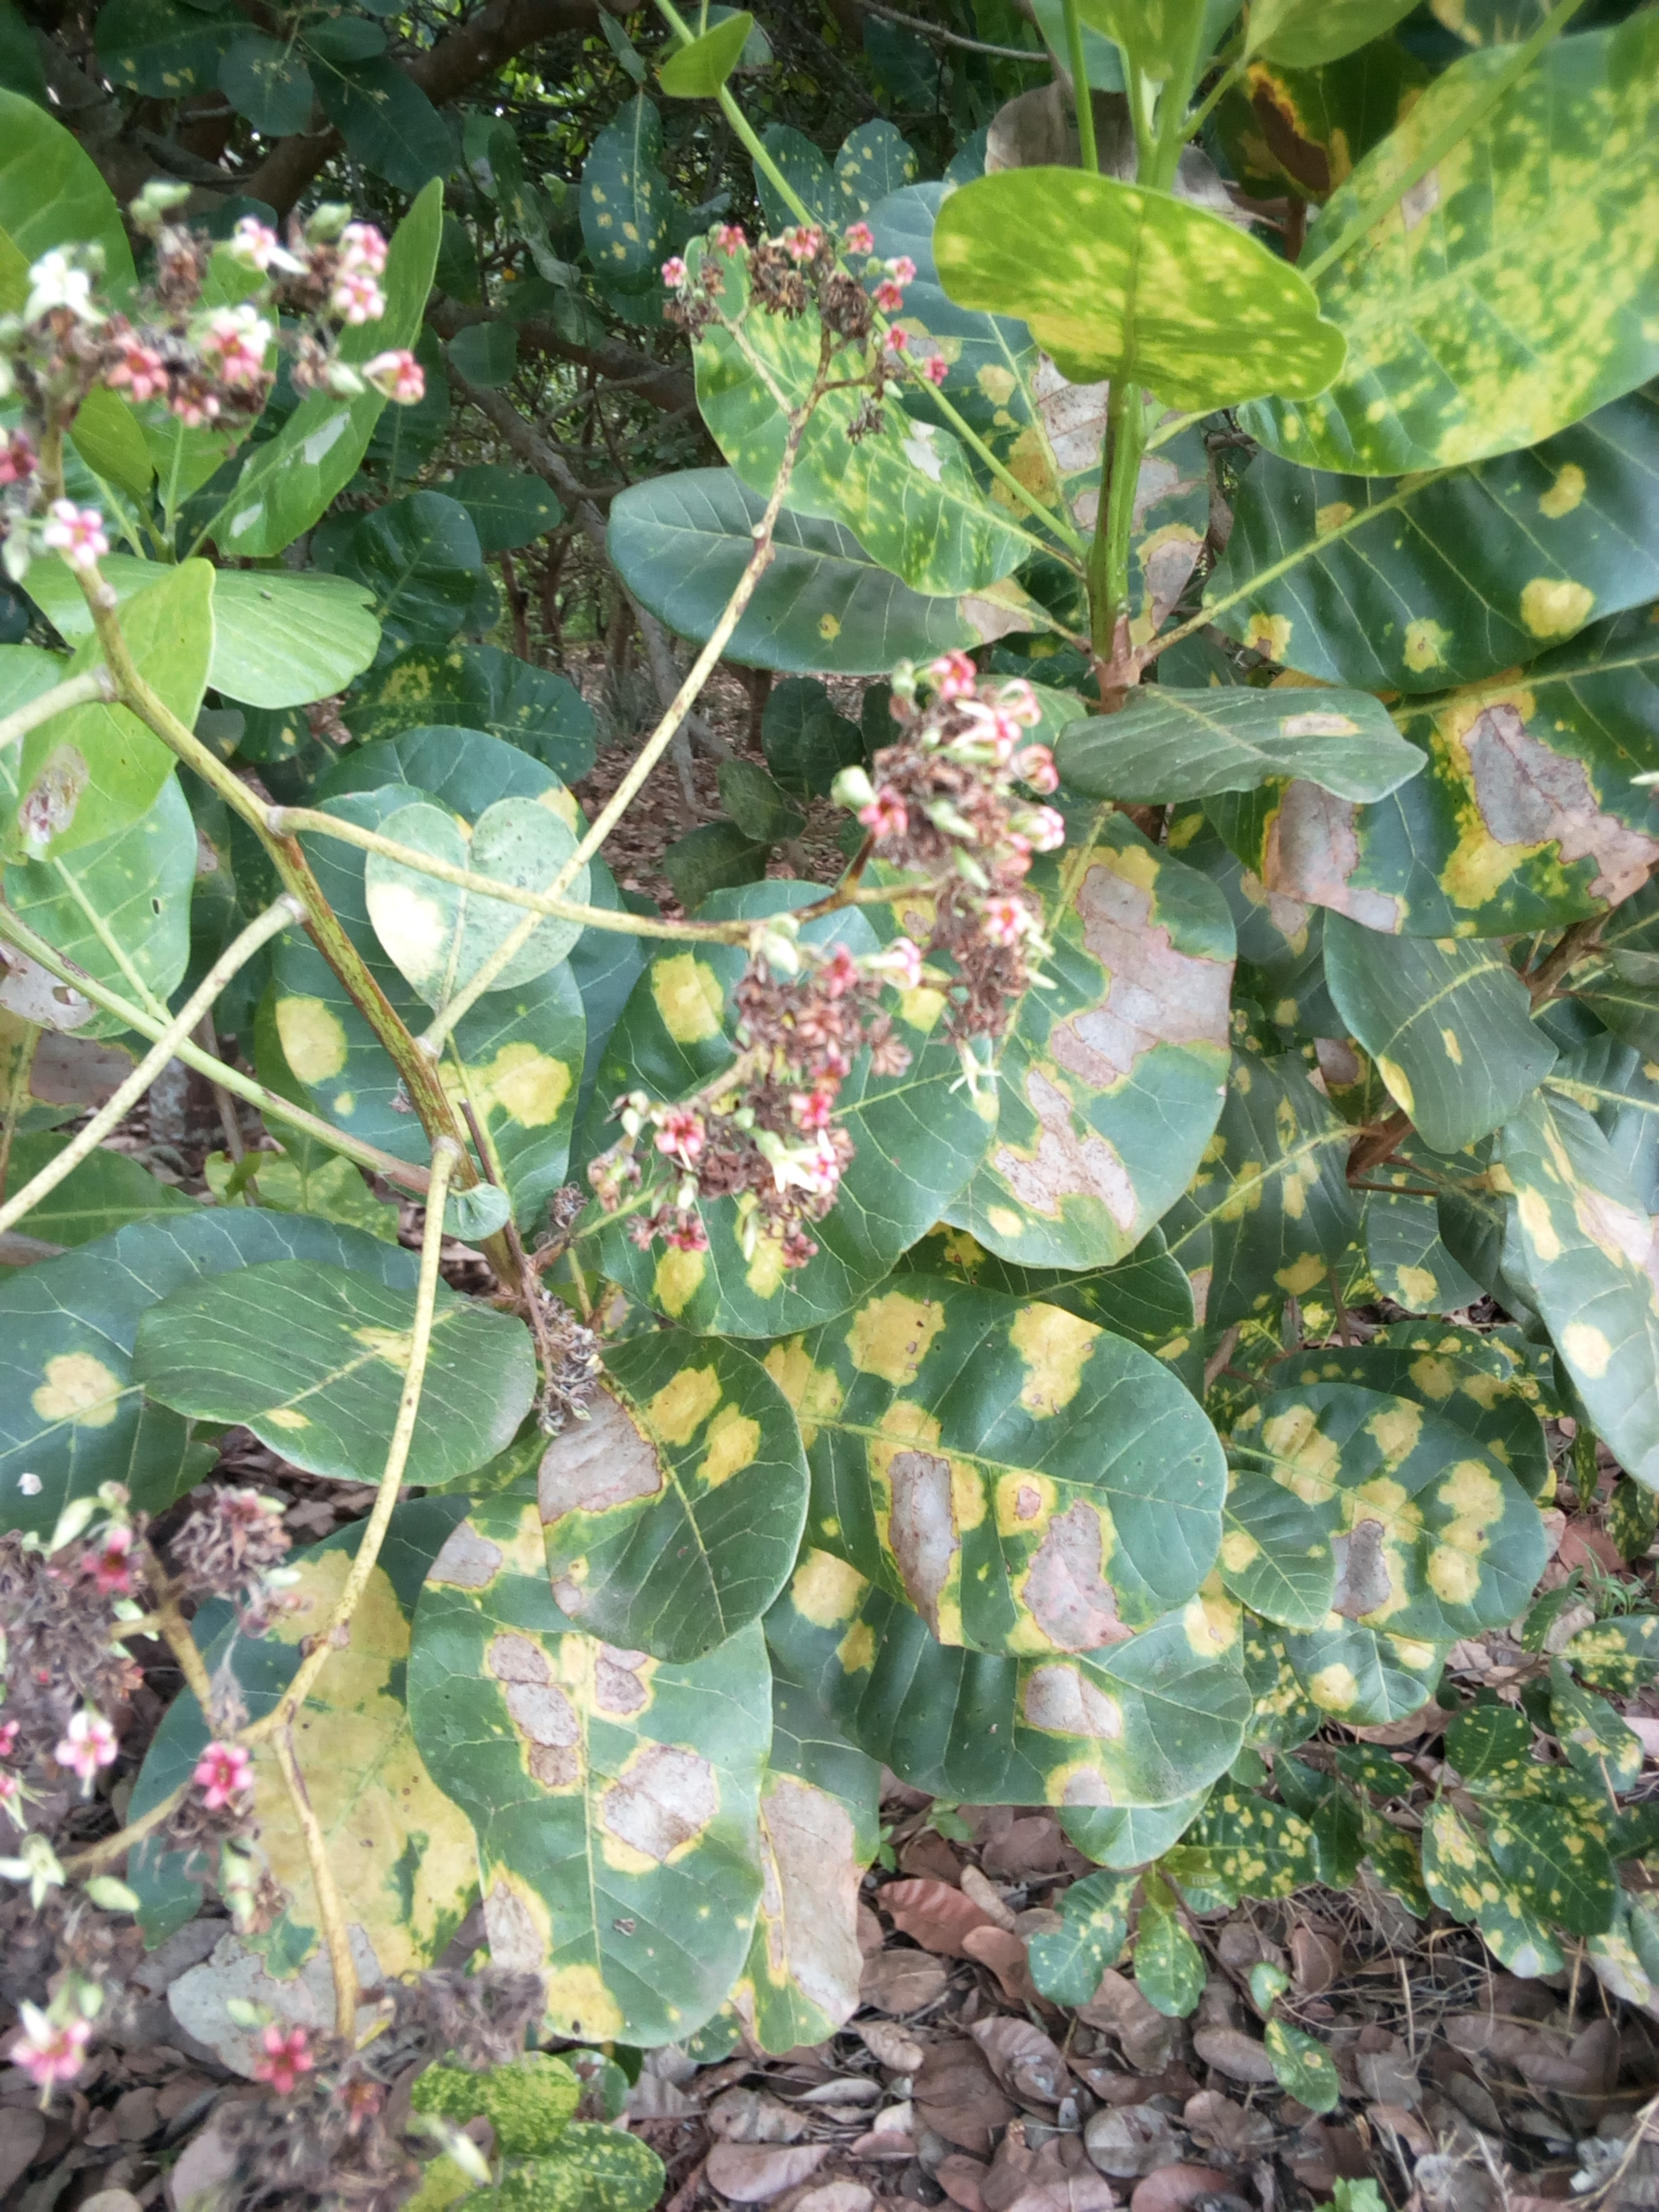Carence minérale: (413, 1510, 793, 2041), (1243, 31, 1659, 486), (735, 1278, 1249, 1637), (253, 866, 613, 1245), (125, 1217, 538, 1529), (664, 256, 1040, 587), (1227, 676, 1656, 951), (1209, 1374, 1586, 1658), (1220, 439, 1659, 679), (349, 770, 636, 1001)
